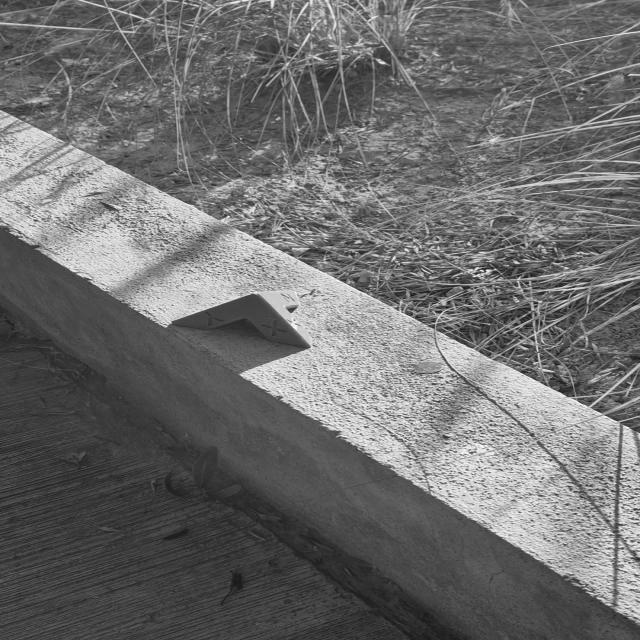eje: (169, 289, 315, 350)
